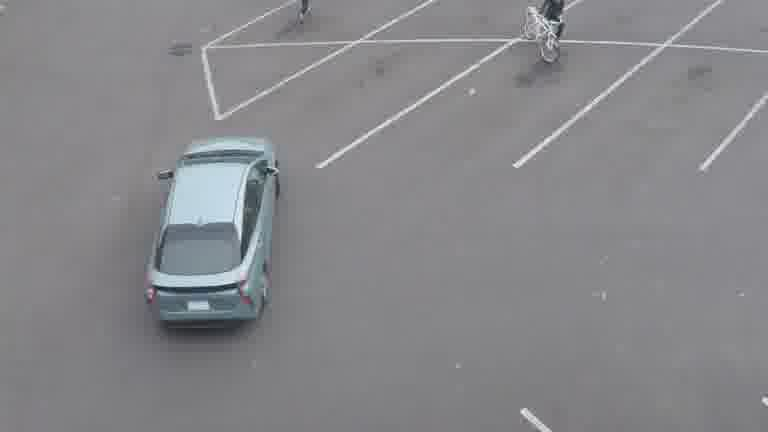car: (523, 1, 570, 65)
cycle: (292, 0, 316, 27)
person: (144, 137, 284, 334)
